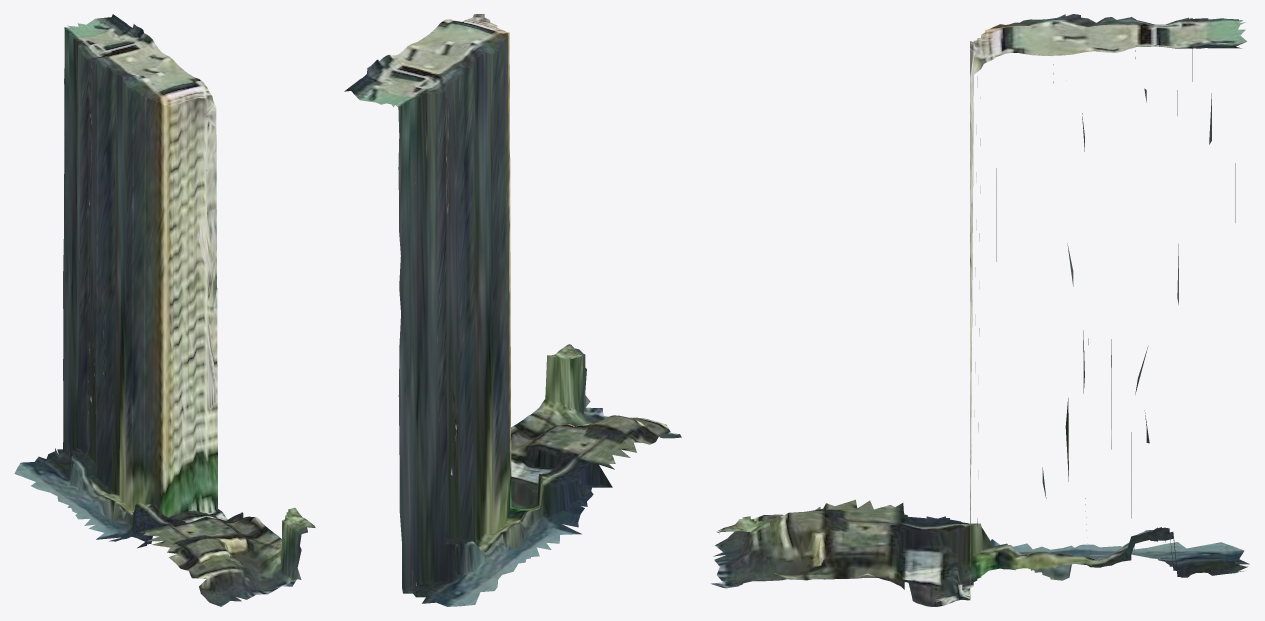
Rendered from Tile_003_003_L14_434.glb.
The picture shows the model from 3 angles, left to right: view 1: azimuth 30°, elevation 25°; view 2: azimuth 150°, elevation 25°; view 3: azimuth 270°, elevation 25°; orthographic projection. The views are drawn at different scales.
Parts seen in each view (by area): view 1: rtc; view 2: rtc; view 3: rtc.
Boxes of the visible parts, x1=… form: rtc: x1=14, y1=14, x2=315, y2=606; rtc: x1=344, y1=14, x2=681, y2=606; rtc: x1=711, y1=14, x2=1249, y2=606.
Size of the model in its own units: 22.77 by 84.05 by 70.17.
Materials: 1 (1 with a texture image).
